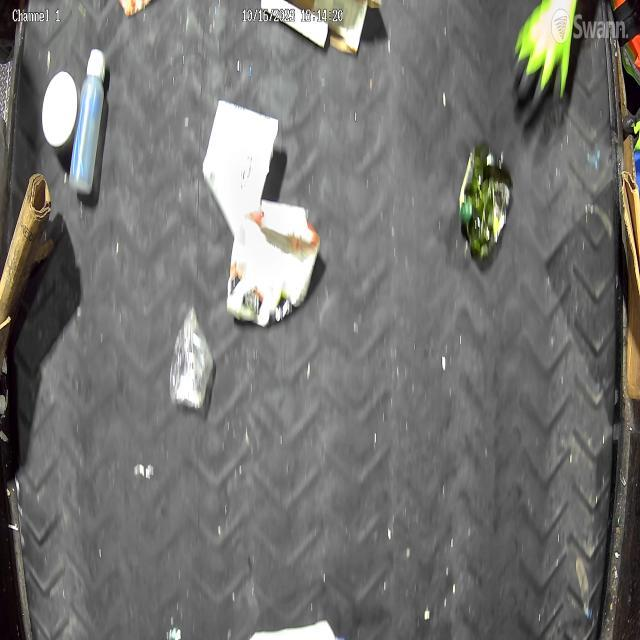non_white_jug: (226, 200, 320, 324)
